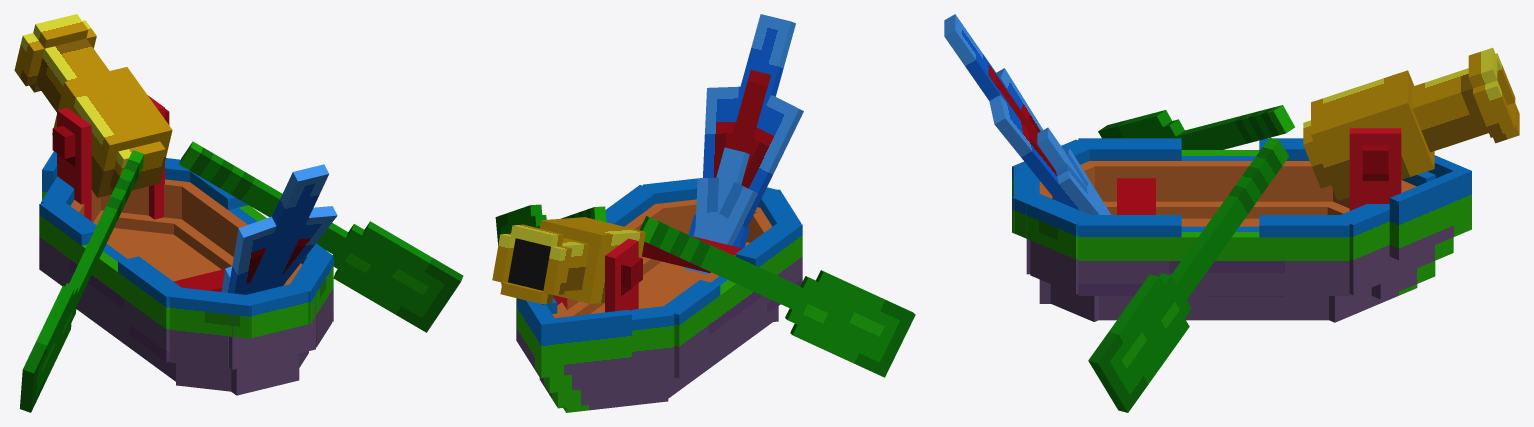
3 renders of one model, left to right at view 1: azimuth 30°, elevation 25°; view 2: azimuth 150°, elevation 25°; view 3: azimuth 270°, elevation 25°, orthographic. The views are drawn at different scales.
Parts seen in each view (by area): view 1: ship_hull-Local, canon_port_01-Local, oar_port-Local, ship_hull_stern-Local, oar_starboard-Local, ship_bow-Local, tail-Local, tail-1$$(1)-Local, tail-1-Local; view 2: ship_hull-Local, ship_bow-Local, oar_starboard-Local, canon_port_01-Local, tail-1$$(1)-Local, tail-1-Local, ship_hull_stern-Local, tail-Local, red-box-Local, oar_port-Local, blue-box1-Local; view 3: ship_hull-Local, canon_port_01-Local, ship_bow-Local, oar_port-Local, ship_hull_stern-Local, oar_starboard-Local, tail-1-Local, tail-Local, tail-1$$(1)-Local, blue-box1-Local, red-box-Local.
Boxes of the visible parts, <box> form: ship_hull-Local: <box>39,95,333,395</box>; canon_port_01-Local: <box>14,14,172,197</box>; oar_port-Local: <box>179,141,463,332</box>; ship_hull_stern-Local: <box>169,254,332,391</box>; oar_starboard-Local: <box>20,150,143,412</box>; ship_bow-Local: <box>41,151,189,239</box>; tail-Local: <box>245,164,328,294</box>; tail-1$$(1)-Local: <box>221,216,276,294</box>; tail-1-Local: <box>276,206,337,287</box>; ship_hull-Local: <box>541,185,802,398</box>; ship_bow-Local: <box>516,297,674,412</box>; oar_starboard-Local: <box>639,215,915,377</box>; canon_port_01-Local: <box>492,217,645,303</box>; tail-1$$(1)-Local: <box>691,92,803,274</box>; tail-1-Local: <box>693,86,745,274</box>; ship_hull_stern-Local: <box>643,178,801,321</box>; tail-Local: <box>684,14,795,270</box>; red-box-Local: <box>729,70,770,153</box>; oar_port-Local: <box>495,204,606,285</box>; blue-box1-Local: <box>716,147,749,216</box>; ship_hull-Local: <box>1013,128,1401,320</box>; canon_port_01-Local: <box>1303,47,1519,200</box>; ship_bow-Local: <box>1327,155,1471,322</box>; oar_port-Local: <box>1088,137,1288,412</box>; ship_hull_stern-Local: <box>1012,139,1102,321</box>; oar_starboard-Local: <box>1098,105,1294,149</box>; tail-1-Local: <box>989,90,1108,214</box>; tail-Local: <box>944,14,1098,214</box>; tail-1$$(1)-Local: <box>996,68,1110,214</box>; blue-box1-Local: <box>1037,127,1087,188</box>; red-box-Local: <box>988,64,1037,143</box>.
Size of the model in its own units: 41.73 by 24.49 by 44.51.
Materials: 11 (11 with a texture image).
